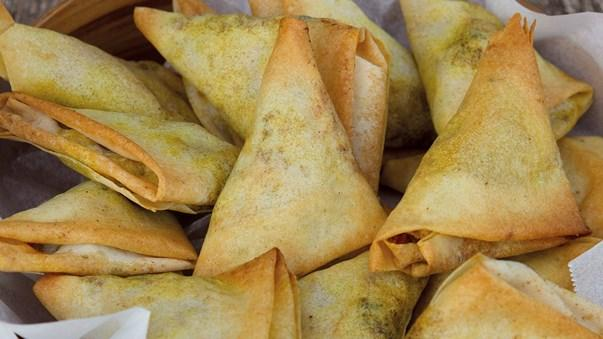samosa: (371, 14, 589, 269), (194, 18, 386, 275), (34, 249, 300, 338), (405, 264, 603, 339), (298, 252, 426, 338)
